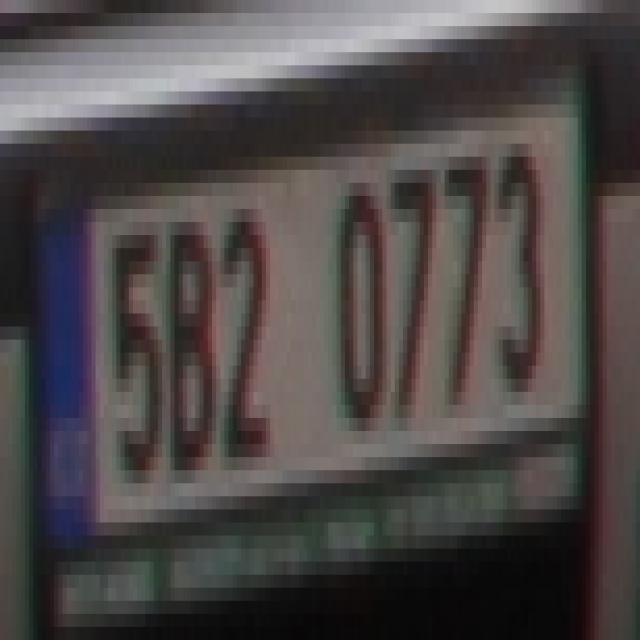0: (336, 183, 386, 431)
2: (220, 196, 270, 457)
3: (491, 130, 548, 378)
5: (108, 209, 162, 483)
7: (436, 117, 486, 392), (387, 157, 428, 418)
B: (166, 209, 216, 470)
